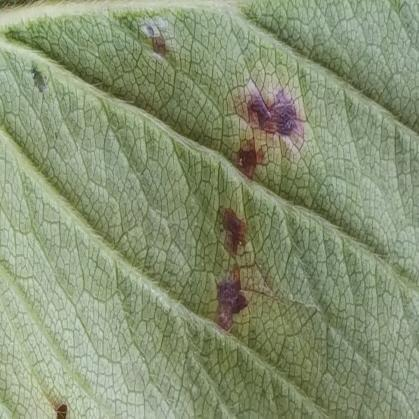Angular Leafspot: (23, 13, 322, 344)
